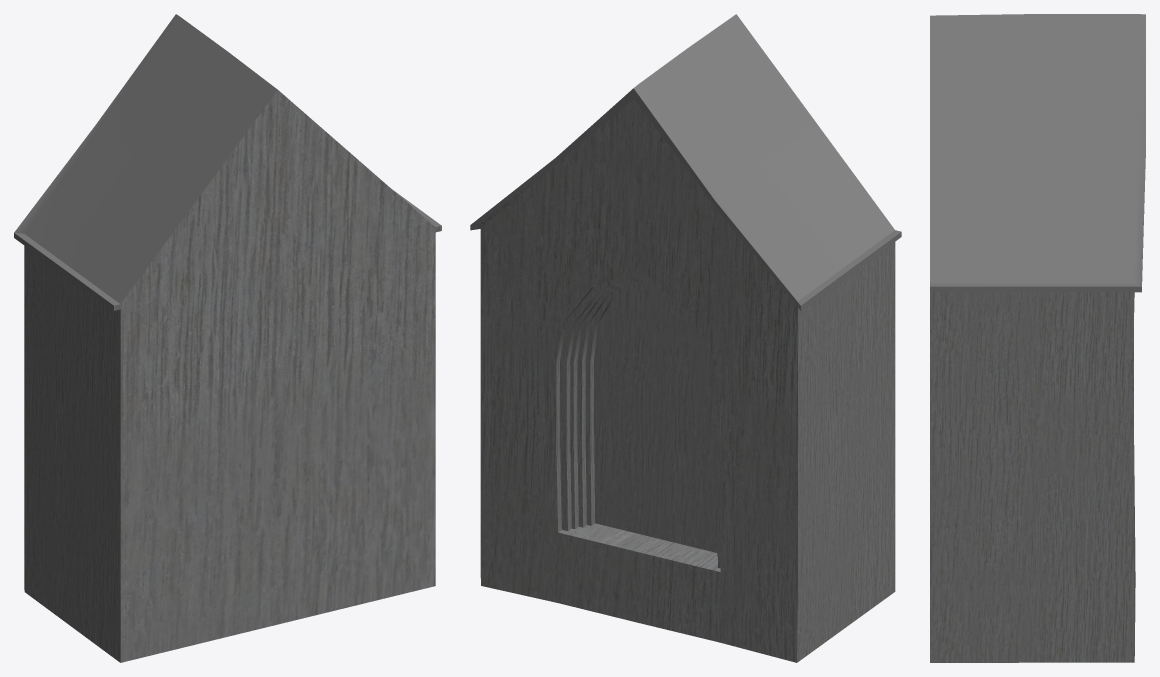
The model's file is CatEntranceBlock.obj.
3 views of the same model, side by side, from view 1: azimuth 30°, elevation 25°; view 2: azimuth 150°, elevation 25°; view 3: azimuth 270°, elevation 25° (orthographic). The views are drawn at different scales.
Parts seen in each view (by area): view 1: polySurface5 polySurface4 polySurface2 pCube7; view 2: polySurface5 polySurface4 polySurface2 pCube7; view 3: polySurface5 polySurface4 polySurface2 pCube7.
Part boxes in pixels (x1,y1,x2,y2): polySurface5 polySurface4 polySurface2 pCube7: (14, 14, 441, 662); polySurface5 polySurface4 polySurface2 pCube7: (470, 14, 901, 662); polySurface5 polySurface4 polySurface2 pCube7: (930, 14, 1145, 662).
Size of the model in its own units: 50.9 by 79.53 by 27.43.
Materials: 2 (1 with a texture image).
